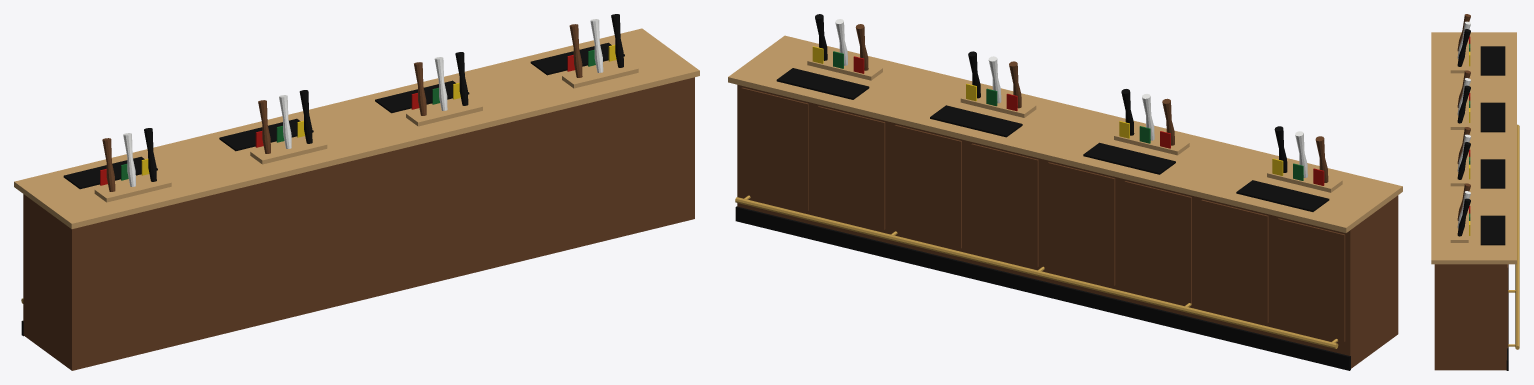
The model's file is hospitality.pub.bar_counter_long.glb.
The picture shows the model from 3 angles, left to right: view 1: azimuth 30°, elevation 25°; view 2: azimuth 150°, elevation 25°; view 3: azimuth 270°, elevation 25°; orthographic projection. The views are drawn at different scales.
Parts seen in each view (by area): view 1: counter__hardwood, counter__glulam, fittings__glulam, fittings__rubber, fittings__hardwood, fittings__ceramic, fittings__plastic_black; view 2: counter__hardwood, counter__glulam, counter__plastic_black, fittings__rubber, counter__brass, fittings__glulam, fittings__ceramic, fittings__hardwood, fittings__plastic_black, fittings__plastic_red, fittings__plastic_yellow, fittings__plastic_green; view 3: counter__glulam, counter__hardwood, fittings__rubber, fittings__glulam, fittings__plastic_black, counter__brass, fittings__hardwood, fittings__ceramic, counter__plastic_black, fittings__plastic_yellow.
Boxes of the visible parts, x1,y1,x2,y2 form: counter__hardwood: (23, 77, 694, 370); counter__glulam: (14, 28, 699, 228); fittings__glulam: (94, 60, 638, 202); fittings__rubber: (63, 42, 624, 189); fittings__hardwood: (102, 24, 582, 191); fittings__ceramic: (123, 19, 603, 186); fittings__plastic_black: (144, 14, 623, 181); counter__hardwood: (737, 84, 1398, 368); counter__glulam: (728, 35, 1402, 232); counter__plastic_black: (735, 206, 1350, 370); fittings__rubber: (776, 68, 1329, 211); counter__brass: (735, 195, 1338, 348); fittings__glulam: (807, 54, 1342, 192); fittings__ceramic: (835, 19, 1307, 177); fittings__hardwood: (855, 24, 1328, 182); fittings__plastic_black: (815, 14, 1287, 172); fittings__plastic_red: (853, 56, 1324, 185); fittings__plastic_yellow: (812, 46, 1283, 175); fittings__plastic_green: (833, 51, 1303, 180); counter__glulam: (1431, 32, 1516, 264); counter__hardwood: (1434, 264, 1508, 370); fittings__rubber: (1480, 46, 1505, 245); fittings__glulam: (1450, 46, 1468, 242); fittings__plastic_black: (1457, 29, 1470, 236); counter__brass: (1508, 124, 1519, 349); fittings__hardwood: (1457, 14, 1470, 220); fittings__ceramic: (1457, 21, 1470, 228); counter__plastic_black: (1506, 264, 1508, 370); fittings__plastic_yellow: (1469, 51, 1470, 235).
Size of the model in its own units: 4.84 by 1.49 by 0.795.
